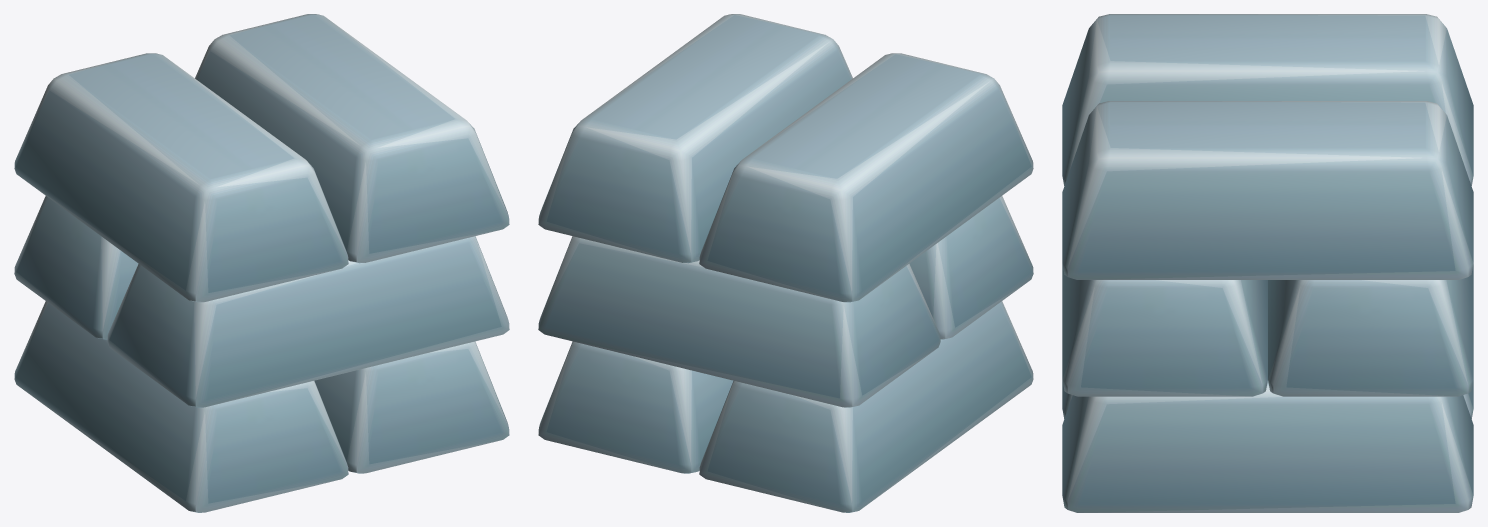
Rendered from silver_bars_stack_small.glb.
3 renders of one model, left to right at view 1: azimuth 30°, elevation 25°; view 2: azimuth 150°, elevation 25°; view 3: azimuth 270°, elevation 25°, orthographic. The views are drawn at different scales.
Parts seen in each view (by area): view 1: Silver_Bars_Stack_Small; view 2: Silver_Bars_Stack_Small; view 3: Silver_Bars_Stack_Small.
Part boxes in pixels (<box>): Silver_Bars_Stack_Small: <box>14,14,509,512</box>; Silver_Bars_Stack_Small: <box>538,14,1033,512</box>; Silver_Bars_Stack_Small: <box>1062,14,1473,512</box>.
Bounding box in the file's own units: 0.8 × 0.75 × 0.8.
Materials: 1 (1 with a texture image).
